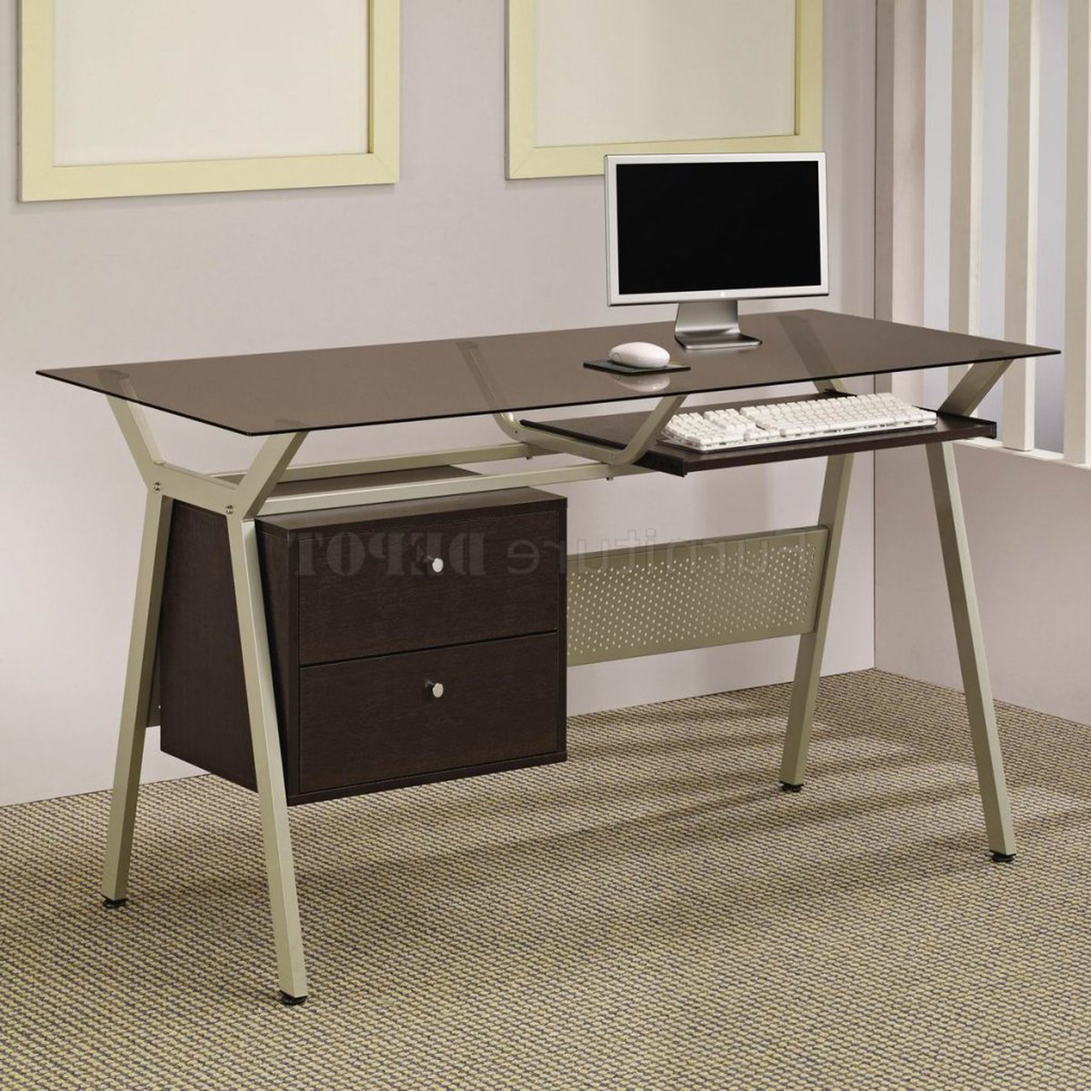not a gesture sign: (0, 672, 1091, 1091)
